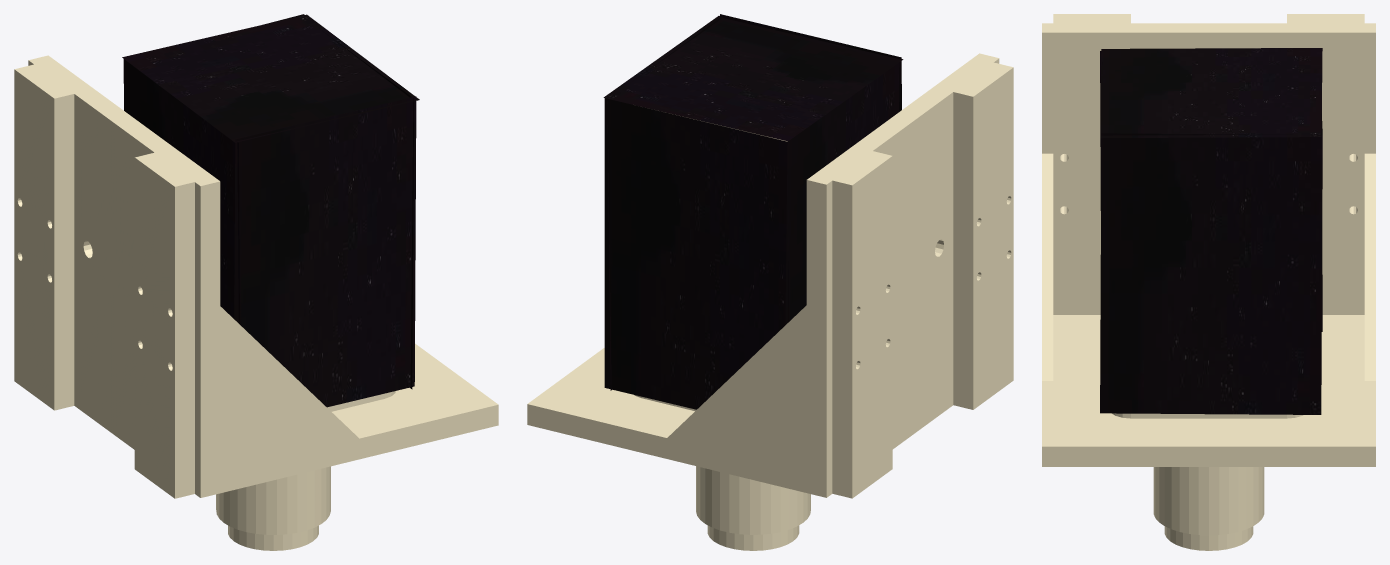
File: Z_Motion.dae
The picture shows the model from 3 angles, left to right: view 1: azimuth 30°, elevation 25°; view 2: azimuth 150°, elevation 25°; view 3: azimuth 270°, elevation 25°; orthographic projection. The views are drawn at different scales.
Visible parts, largest first — view 1: Z_Motion, black.006, black.002, black.003, black.005; view 2: Z_Motion, black.004, black.002, black.003, black.006; view 3: Z_Motion, black.005, black.002.
Boxes of the visible parts, x1=… form: Z_Motion: x1=14, y1=55, x2=498, y2=550; black.006: x1=234, y1=96, x2=416, y2=407; black.002: x1=122, y1=14, x2=419, y2=142; black.003: x1=123, y1=59, x2=239, y2=324; black.005: x1=325, y1=33, x2=413, y2=389; Z_Motion: x1=527, y1=53, x2=1013, y2=550; black.004: x1=604, y1=98, x2=788, y2=409; black.002: x1=603, y1=16, x2=903, y2=141; black.003: x1=785, y1=62, x2=899, y2=324; black.006: x1=720, y1=14, x2=901, y2=111; Z_Motion: x1=1042, y1=14, x2=1375, y2=550; black.005: x1=1100, y1=133, x2=1322, y2=414; black.002: x1=1100, y1=48, x2=1322, y2=138.
Bounding box in the file's own units: 0.16 × 0.15 × 0.2187.
6 materials, 5 textured.
